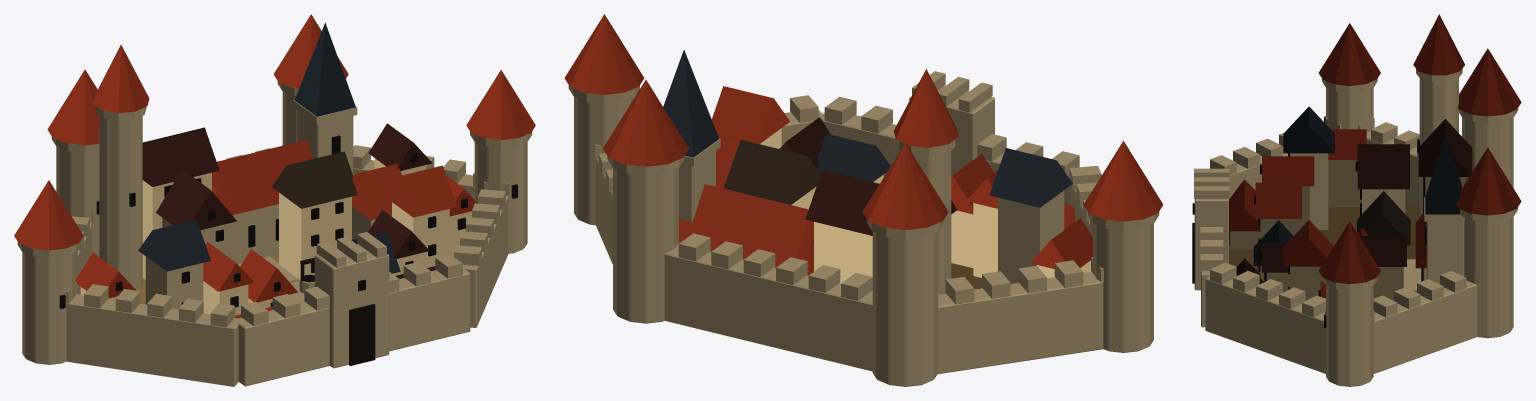
File: settle_2_1.obj
The picture shows the model from 3 angles, left to right: view 1: azimuth 30°, elevation 25°; view 2: azimuth 150°, elevation 25°; view 3: azimuth 270°, elevation 25°; orthographic projection. The views are drawn at different scales.
Parts seen in each view (by area): view 1: core_stone, core_roof_civic, core_roof_tile, core_plaster, core_roof_tile_old, core_roof_shingle, core_slate, core_roof_slate, core_window, core_wood_dark; view 2: core_stone, core_roof_civic, core_roof_tile, core_plaster, core_roof_slate, core_roof_tile_old, core_roof_shingle, core_slate; view 3: core_stone, core_roof_civic, core_roof_tile, core_roof_tile_old, core_plaster, core_roof_slate, core_slate, core_cloth, core_roof_shingle, core_window.
Boxes of the visible parts, x1=… form: core_stone: x1=17, y1=81, x2=532, y2=386; core_roof_civic: x1=14, y1=14, x2=535, y2=250; core_roof_tile: x1=75, y1=163, x2=477, y2=318; core_plaster: x1=80, y1=158, x2=471, y2=315; core_roof_tile_old: x1=142, y1=123, x2=435, y2=278; core_roof_shingle: x1=272, y1=151, x2=357, y2=208; core_slate: x1=294, y1=23, x2=355, y2=116; core_roof_slate: x1=138, y1=219, x2=400, y2=273; core_window: x1=59, y1=135, x2=517, y2=308; core_wood_dark: x1=300, y1=257, x2=375, y2=365; core_stone: x1=568, y1=71, x2=1159, y2=386; core_roof_civic: x1=564, y1=14, x2=1163, y2=275; core_roof_tile: x1=711, y1=86, x2=1092, y2=268; core_plaster: x1=760, y1=128, x2=1091, y2=291; core_roof_slate: x1=816, y1=133, x2=1072, y2=207; core_roof_tile_old: x1=779, y1=117, x2=956, y2=235; core_roof_shingle: x1=723, y1=139, x2=820, y2=204; core_slate: x1=663, y1=50, x2=719, y2=157; core_stone: x1=1194, y1=69, x2=1517, y2=386; core_roof_civic: x1=1318, y1=14, x2=1521, y2=284; core_roof_tile: x1=1229, y1=129, x2=1368, y2=298; core_roof_tile_old: x1=1236, y1=119, x2=1472, y2=283; core_plaster: x1=1229, y1=160, x2=1465, y2=300; core_roof_slate: x1=1253, y1=106, x2=1334, y2=265; core_slate: x1=1425, y1=133, x2=1462, y2=214; core_cloth: x1=1229, y1=203, x2=1419, y2=292; core_roof_shingle: x1=1357, y1=191, x2=1410, y2=245; core_window: x1=1192, y1=116, x2=1426, y2=327.
Size of the model in its own units: 1.72 by 0.782 by 1.07.
